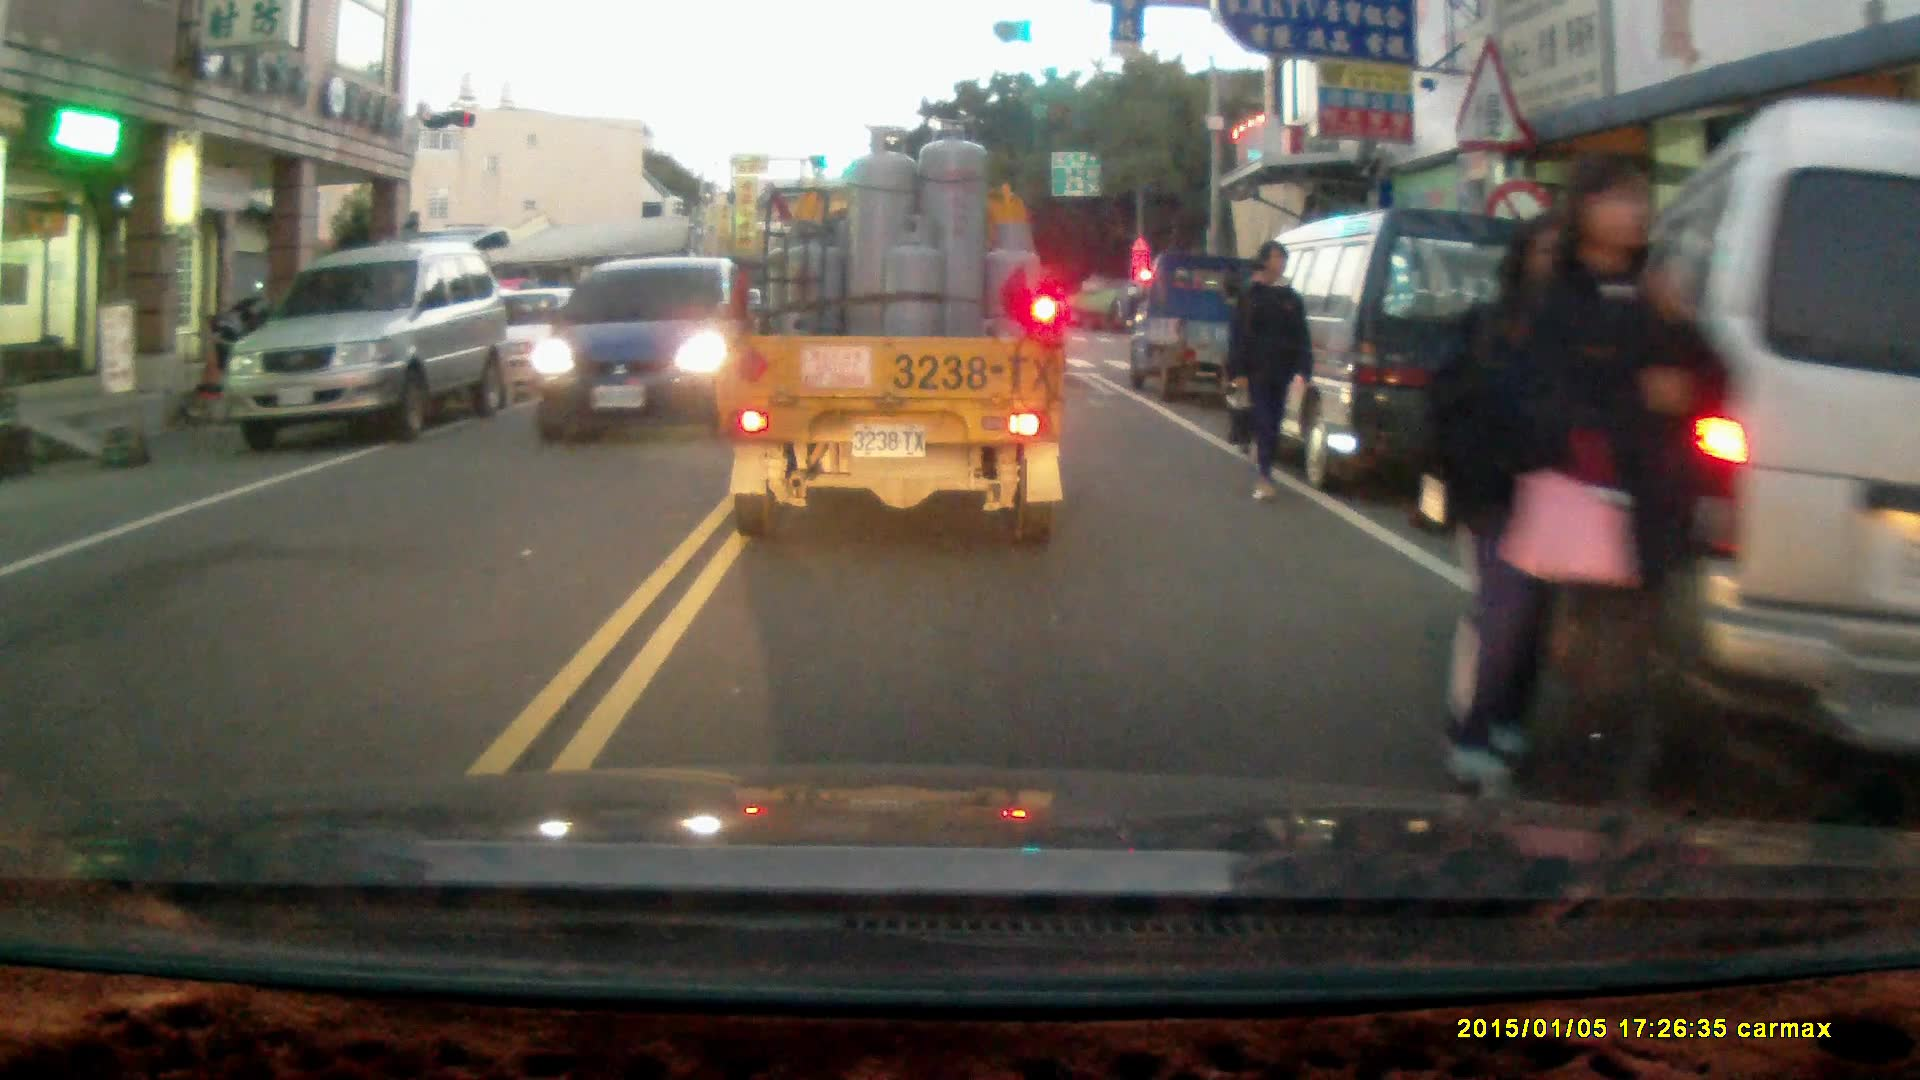pedestrian: (1523, 146, 1741, 827), (1419, 219, 1614, 831), (1226, 235, 1320, 504)
vehicle: (1596, 107, 1920, 782), (713, 122, 1070, 538), (1225, 205, 1583, 513), (229, 243, 513, 453), (525, 259, 775, 440), (439, 286, 607, 407), (1124, 249, 1246, 400)
